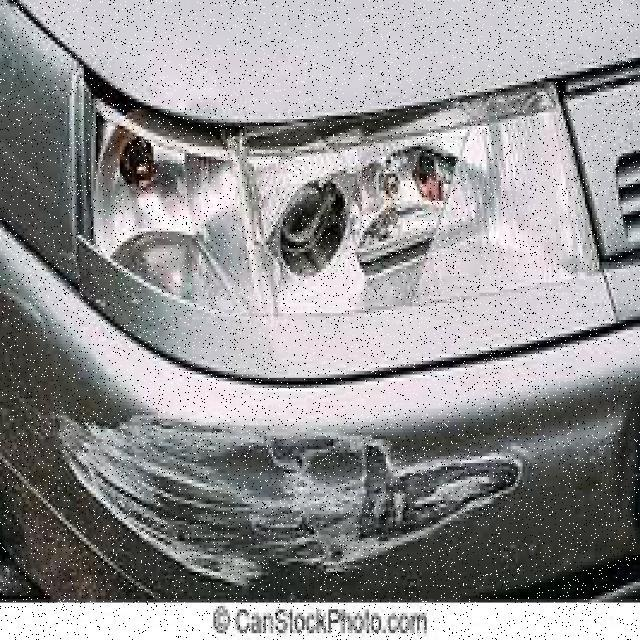Headlight-Damage: (72, 82, 582, 330)
front-bumper-dent: (0, 317, 621, 606)
